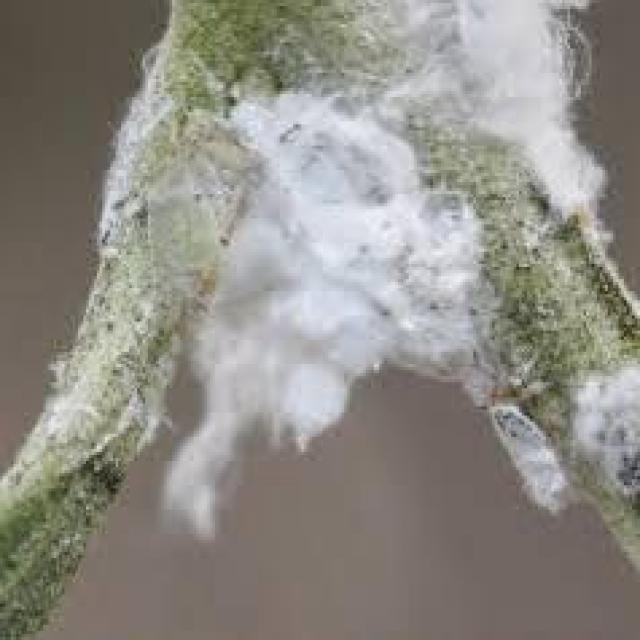Psyllid: (121, 0, 637, 534)
